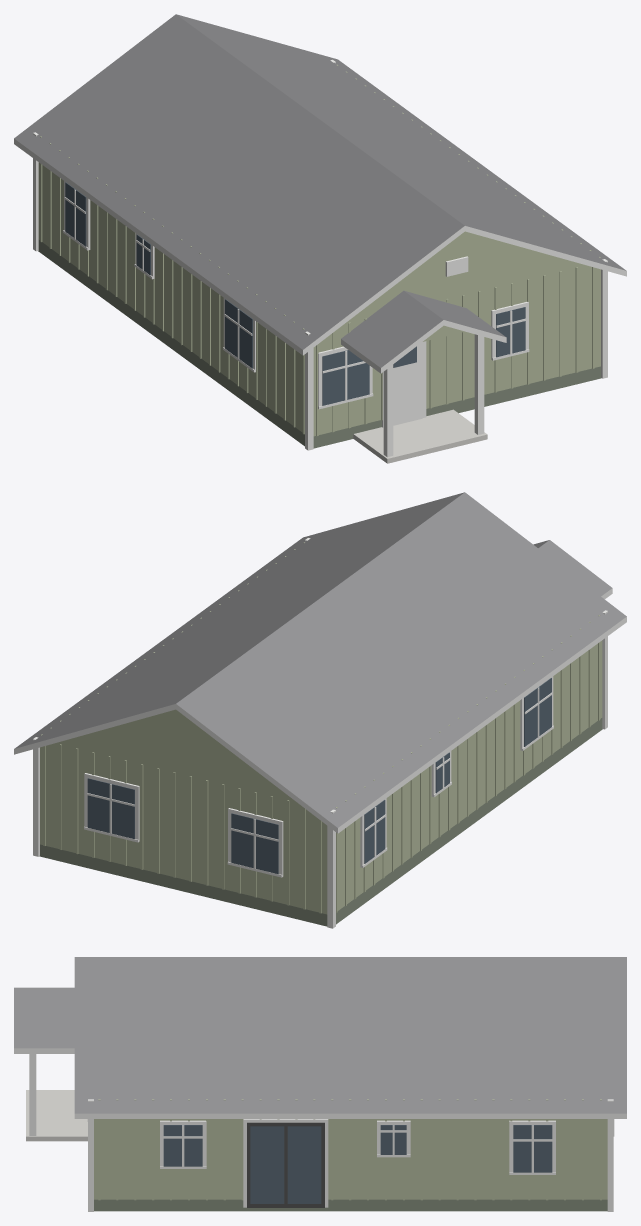
Rendered from almond-sage.glb.
3 renders of one model, top to bottom at view 1: azimuth 30°, elevation 25°; view 2: azimuth 150°, elevation 25°; view 3: azimuth 270°, elevation 25°, orthographic. The views are drawn at different scales.
Visible parts, largest first — view 1: The Almond (sage); view 2: The Almond (sage); view 3: The Almond (sage).
Part boxes in pixels (x1=…): The Almond (sage): x1=14, y1=14, x2=626, y2=463; The Almond (sage): x1=14, y1=492, x2=626, y2=928; The Almond (sage): x1=14, y1=957, x2=626, y2=1211.
Size of the model in its own units: 8.38 by 4.8 by 14.38.
